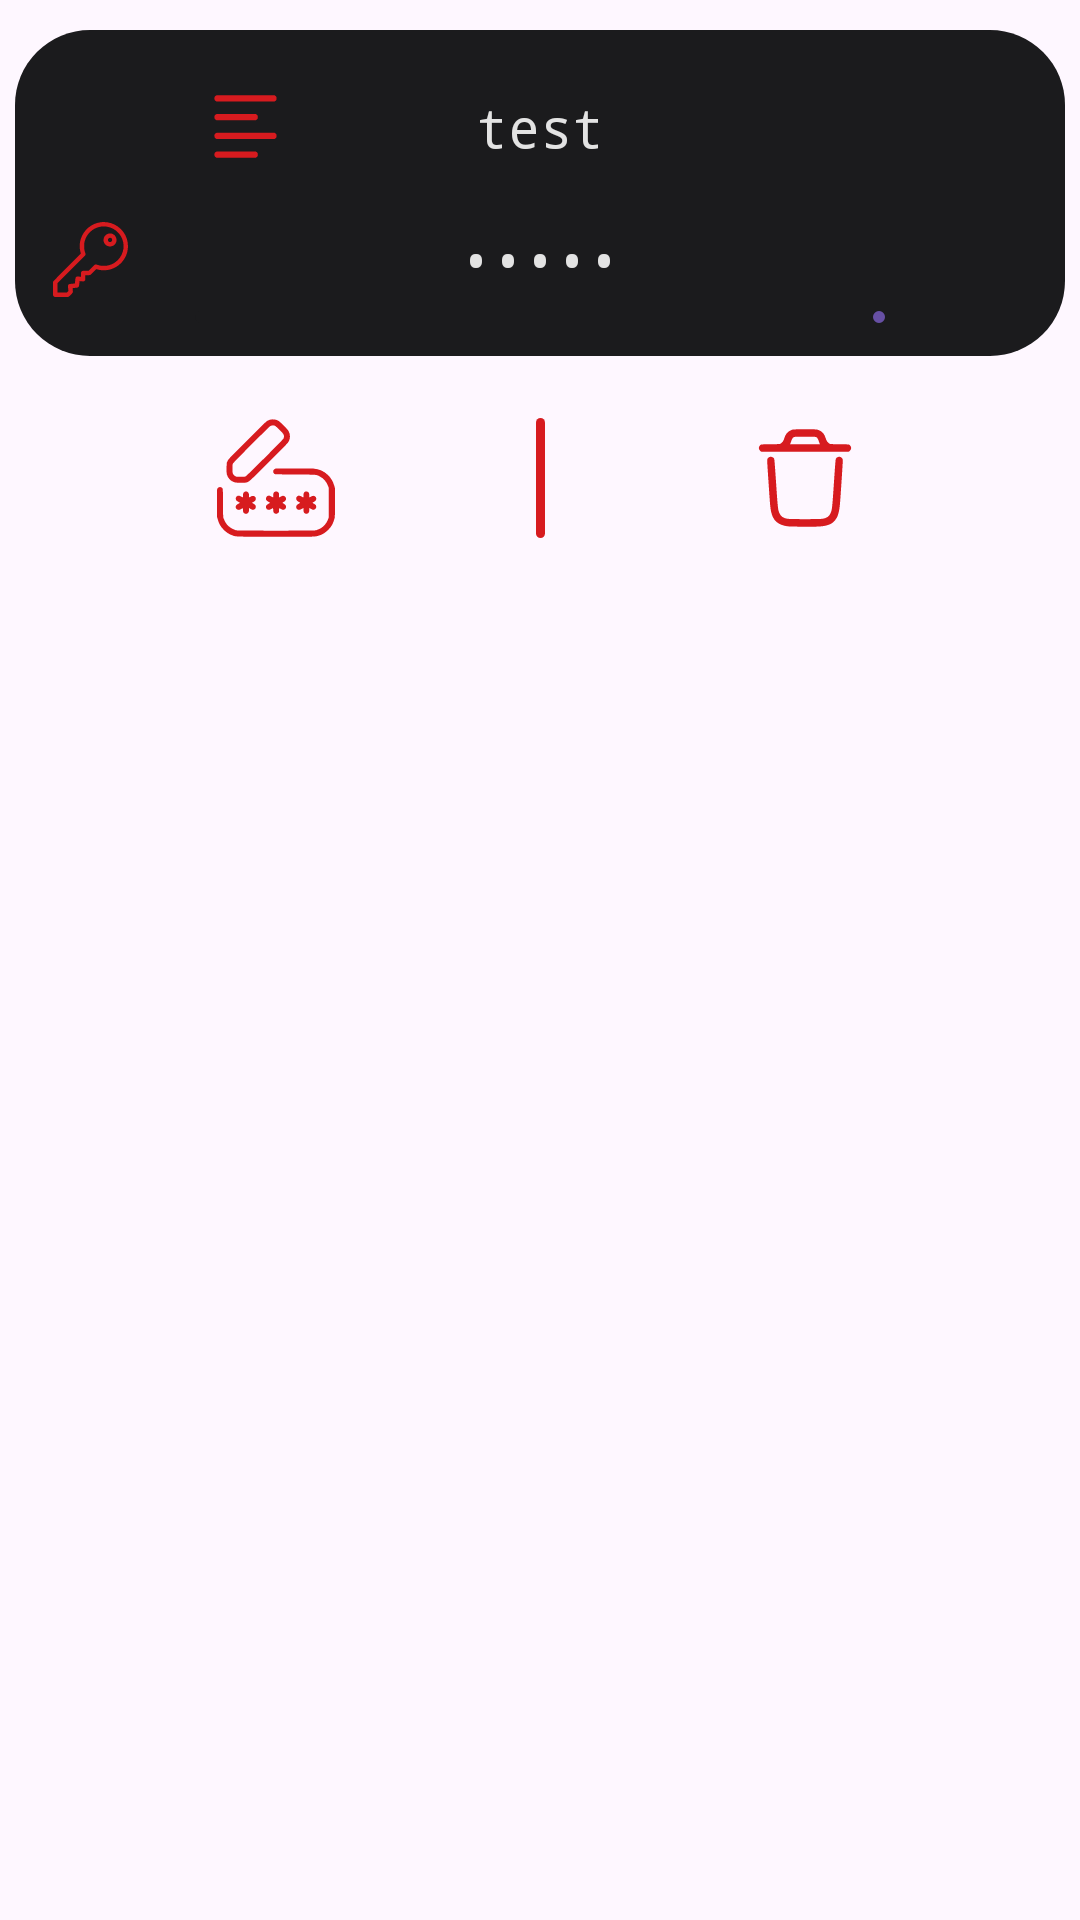

Where to tap for icons on this 1080px×1920px app screen, as (x=x, y=y):
delete pass: (x=805, y=478)
edit pass: (x=276, y=478)
key: (x=90, y=259)
text: (x=245, y=126)
